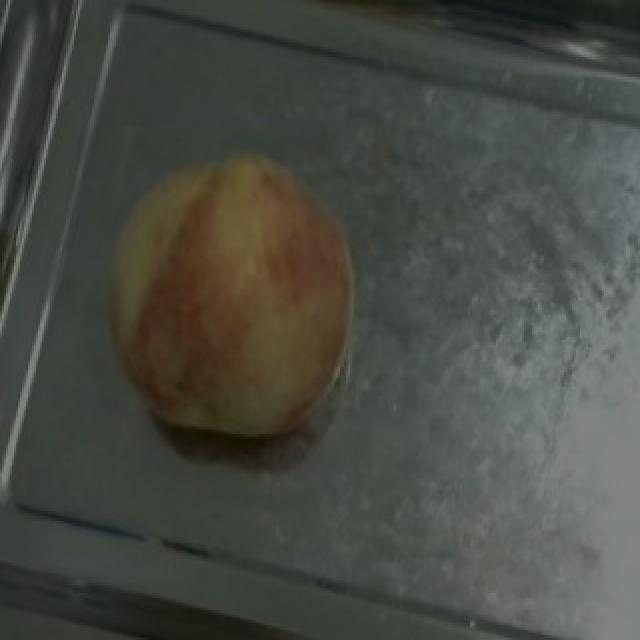Fruit: (70, 116, 400, 494)
